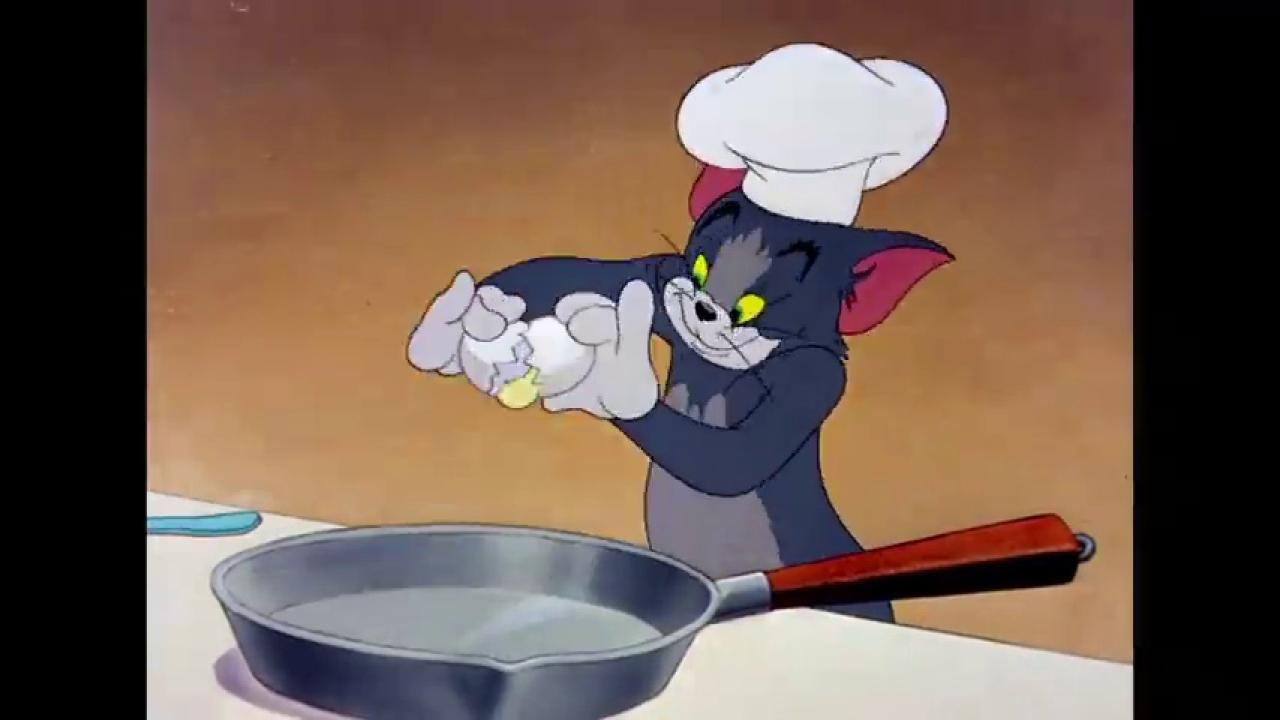Tom: (404, 163, 957, 631)
